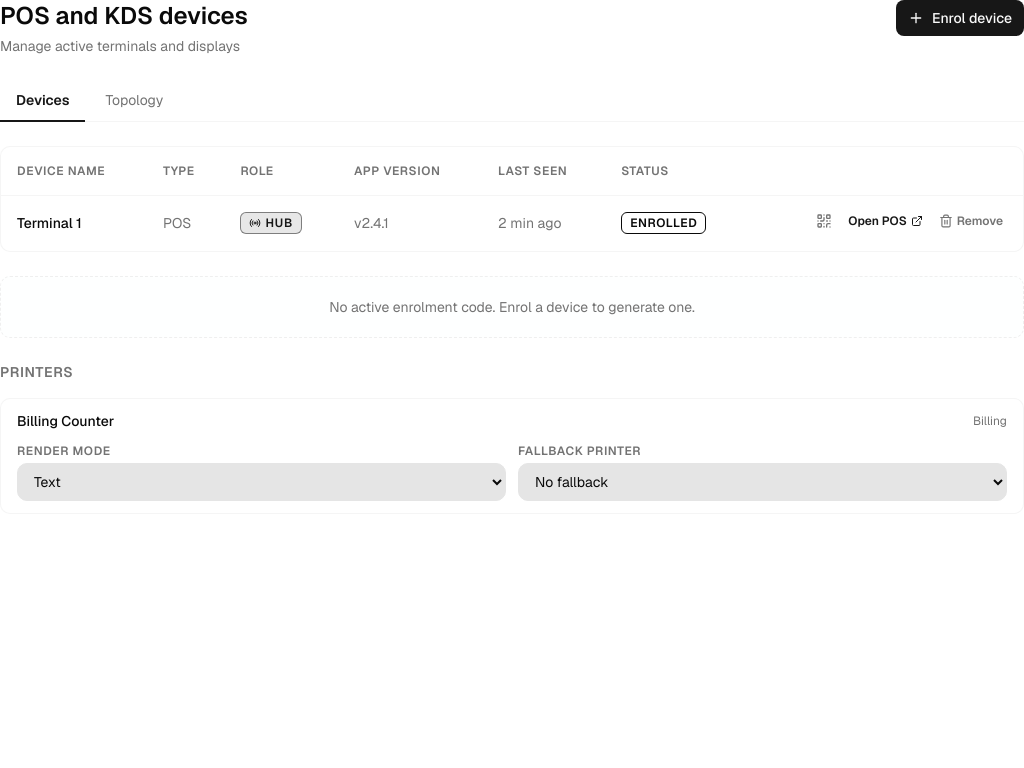
Test case: Devices - remove a device (issue #215) › confirms with a reason, POSTs the revoke, and flips the row to Revoked in place
Click the button with test id "device-remove-d1": [971, 221] box [935,213,1007,229]
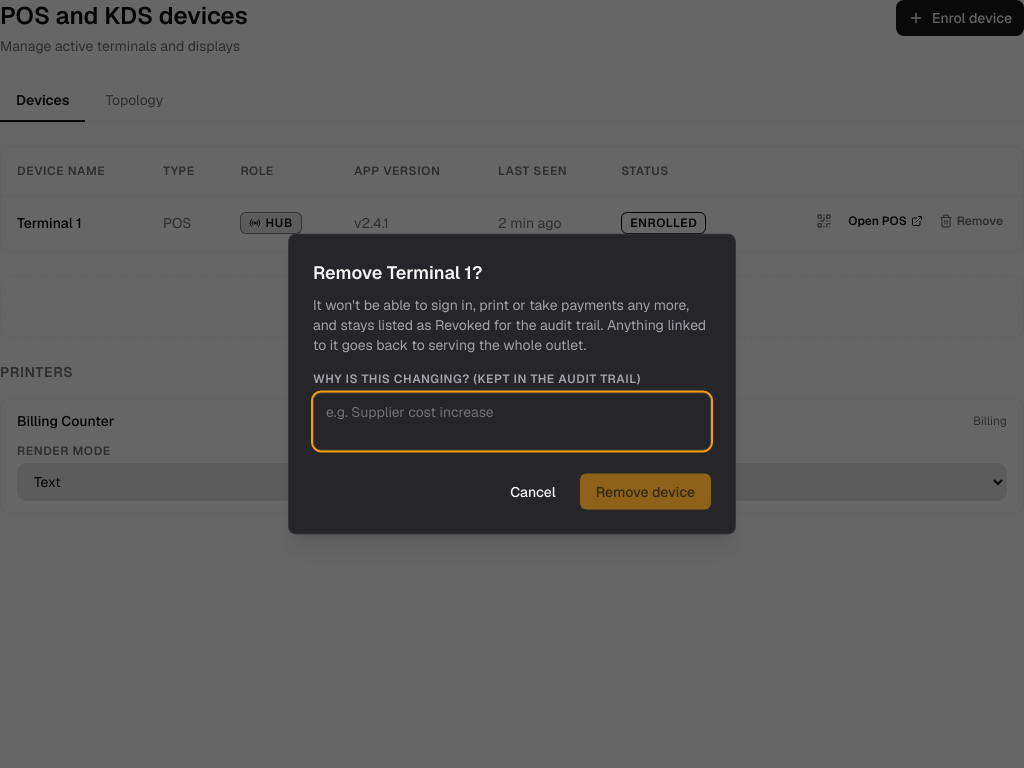
Now the dialog with test id "confirm-reason-dialog" shows "Remove Terminal 1?", box [313,260,482,284]
Now the button with test id "confirm-submit" is disabled, box [580,474,711,510]
In the text box with test id "confirm-reason": [512, 422] box [313,392,711,450], type "Tablet retired"
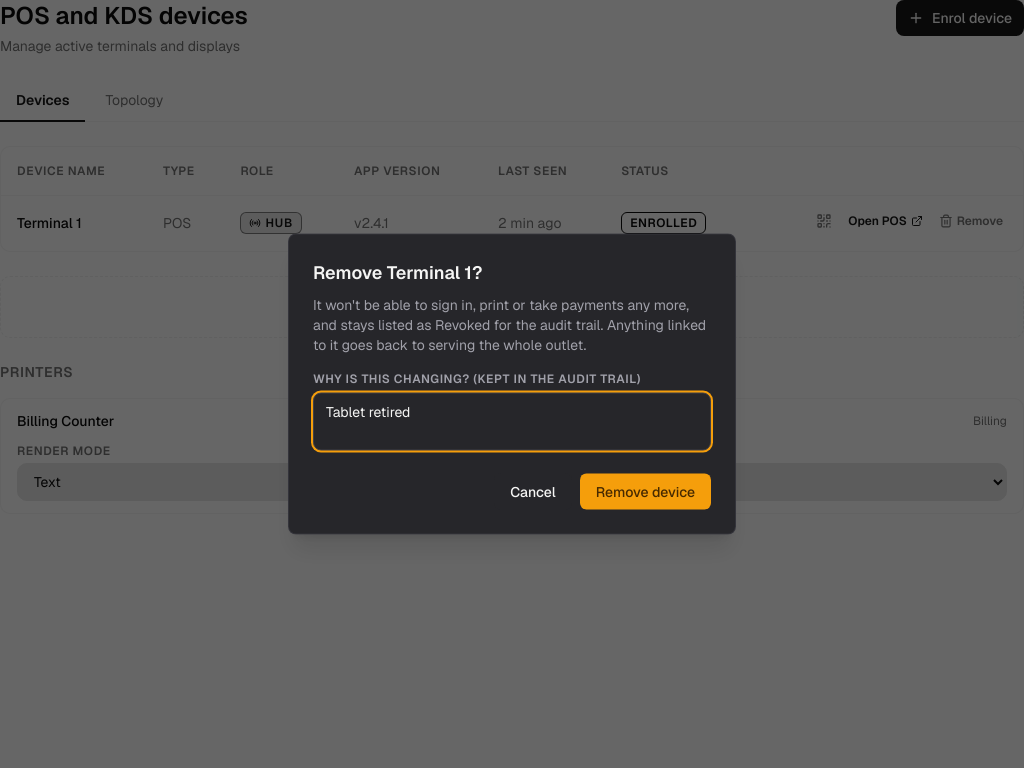
Click the button with test id "confirm-submit": [645, 492] box [580,474,711,510]
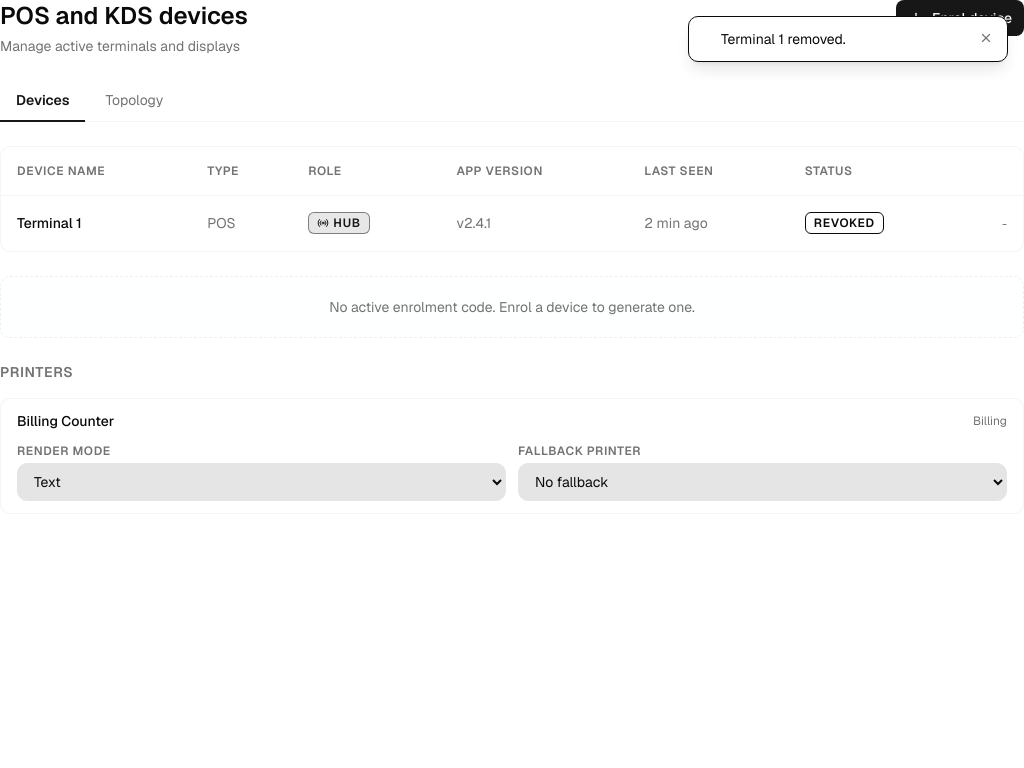
Now the dialog with test id "confirm-reason-dialog" is gone
Now the text with test id "device-status-d1" reads "Revoked", box [814,215,875,231]
Now the button with test id "device-remove-d1" is gone
